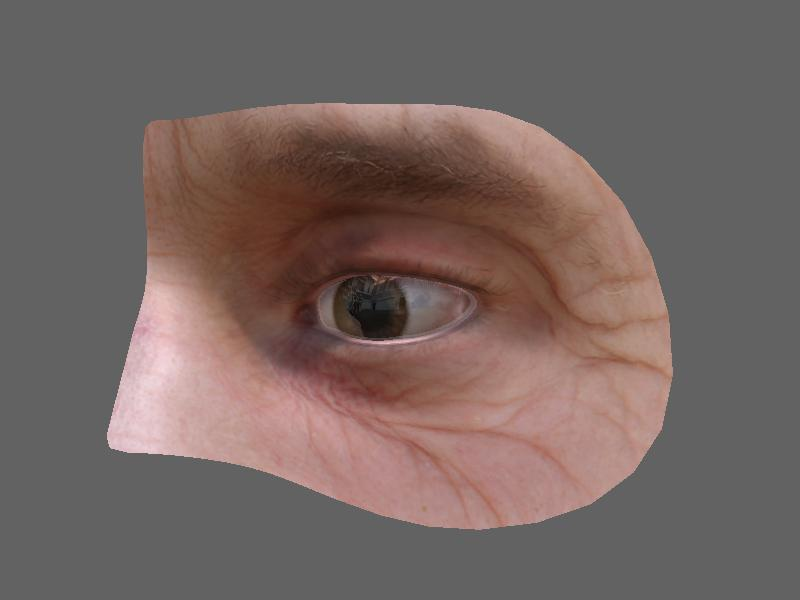iris: (328, 277, 407, 344)
